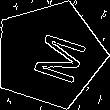M_W: (17, 25, 82, 85)
